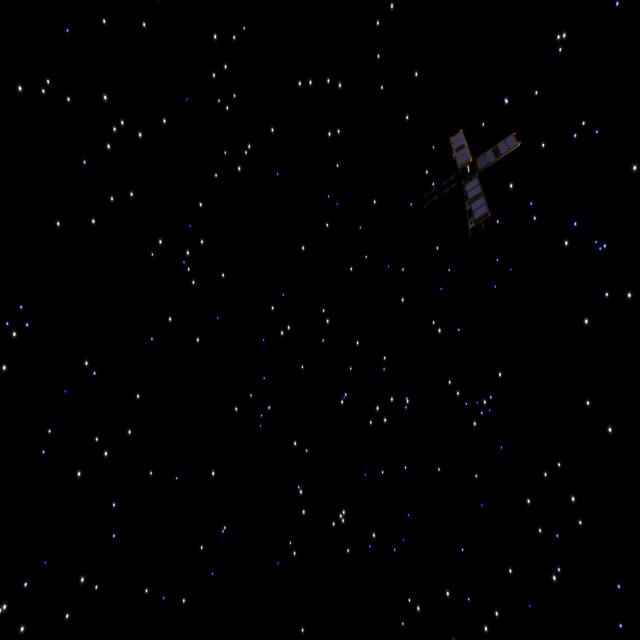satellite: (400, 116, 519, 239)
